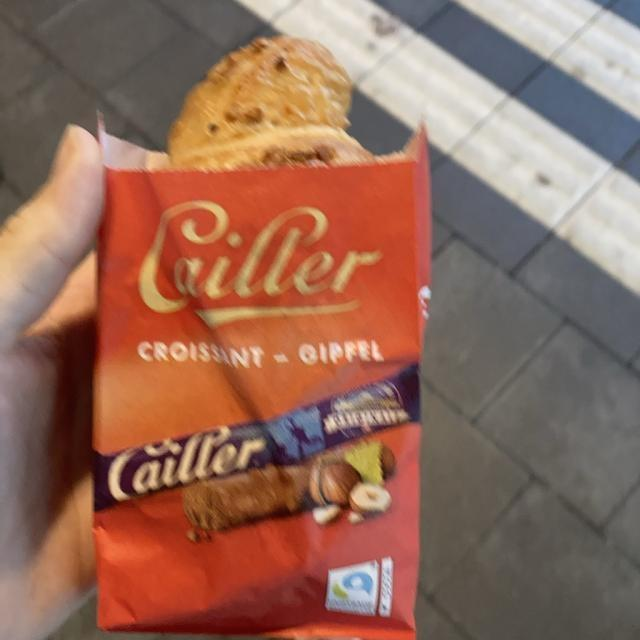croissant: (170, 39, 361, 166)
